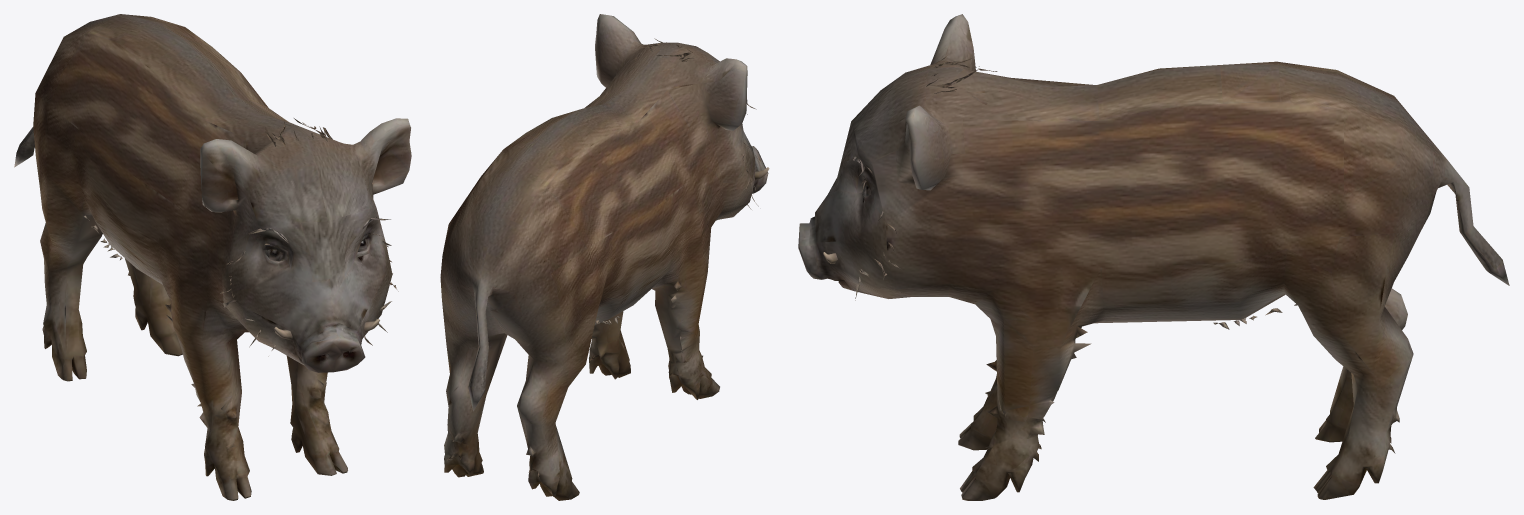
File: leitao_listrado_lod.glb
3 renders of one model, left to right at view 1: azimuth 30°, elevation 25°; view 2: azimuth 150°, elevation 25°; view 3: azimuth 270°, elevation 25°, orthographic. The views are drawn at different scales.
Visible parts, largest first — view 1: Leitão listrado; view 2: Leitão listrado; view 3: Leitão listrado.
Boxes of the visible parts, <box> form: Leitão listrado: <box>14,14,411,500</box>; Leitão listrado: <box>440,14,769,500</box>; Leitão listrado: <box>798,14,1509,500</box>.
Size of the model in its own units: 0.3418 by 0.6387 by 0.998.
Materials: 1 (1 with a texture image).
